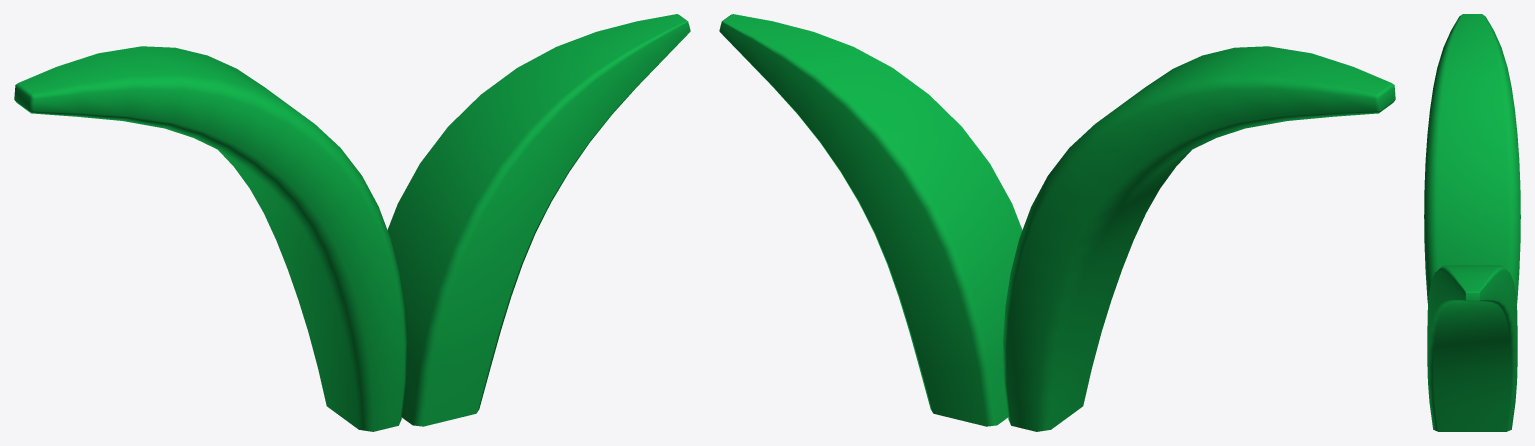
Rendered from City_5_Grass_3.glb.
The picture shows the model from 3 angles, left to right: view 1: azimuth 30°, elevation 25°; view 2: azimuth 150°, elevation 25°; view 3: azimuth 270°, elevation 25°; orthographic projection. The views are drawn at different scales.
Parts seen in each view (by area): view 1: City_5_Grass_3; view 2: City_5_Grass_3; view 3: City_5_Grass_3.
Part boxes in pixels (bbox=[...]): City_5_Grass_3: bbox=[14, 14, 690, 431]; City_5_Grass_3: bbox=[719, 14, 1395, 431]; City_5_Grass_3: bbox=[1424, 14, 1520, 431].
Size of the model in its own units: 0.7043 by 0.415 by 0.1309.
1 material, 1 textured.
